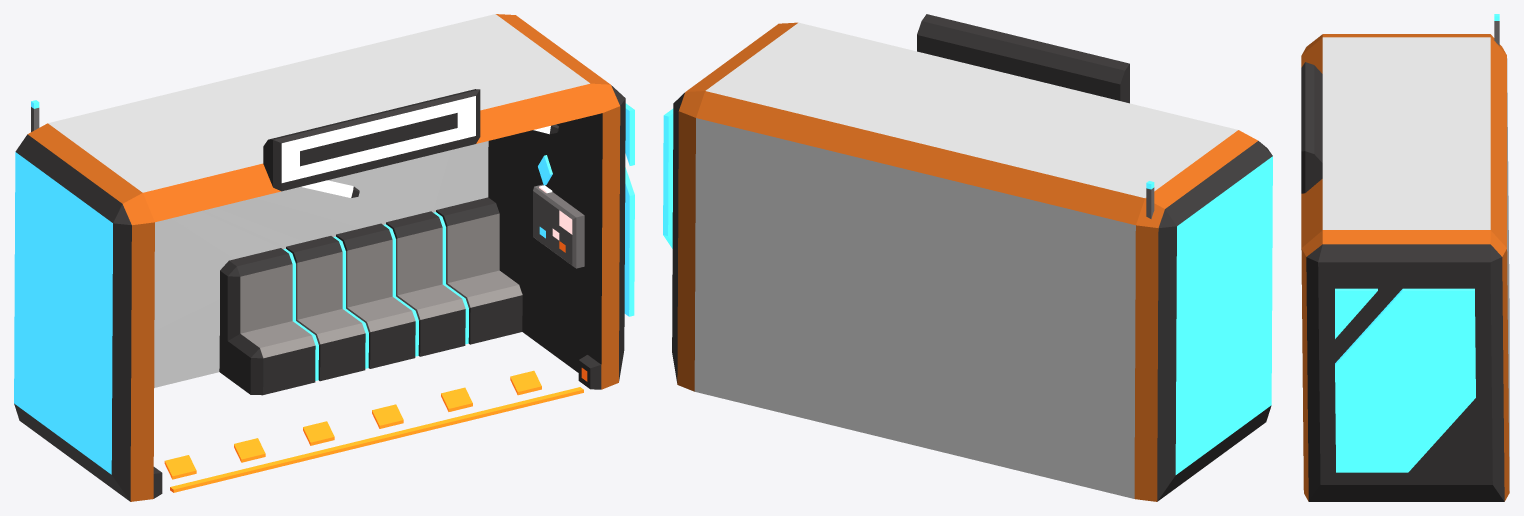
File: scifi_scifi-bus-stop.fbx
The picture shows the model from 3 angles, left to right: view 1: azimuth 30°, elevation 25°; view 2: azimuth 150°, elevation 25°; view 3: azimuth 270°, elevation 25°; orthographic projection. The views are drawn at different scales.
Visible parts, largest first — view 1: scifi_scifi_bus_stop; view 2: scifi_scifi_bus_stop; view 3: scifi_scifi_bus_stop.
Boxes of the visible parts, bbox=[...] form: scifi_scifi_bus_stop: bbox=[14, 14, 634, 501]; scifi_scifi_bus_stop: bbox=[663, 14, 1272, 501]; scifi_scifi_bus_stop: bbox=[1301, 14, 1509, 501].
Bounding box in the file's own units: 200 × 118 × 76.88.
